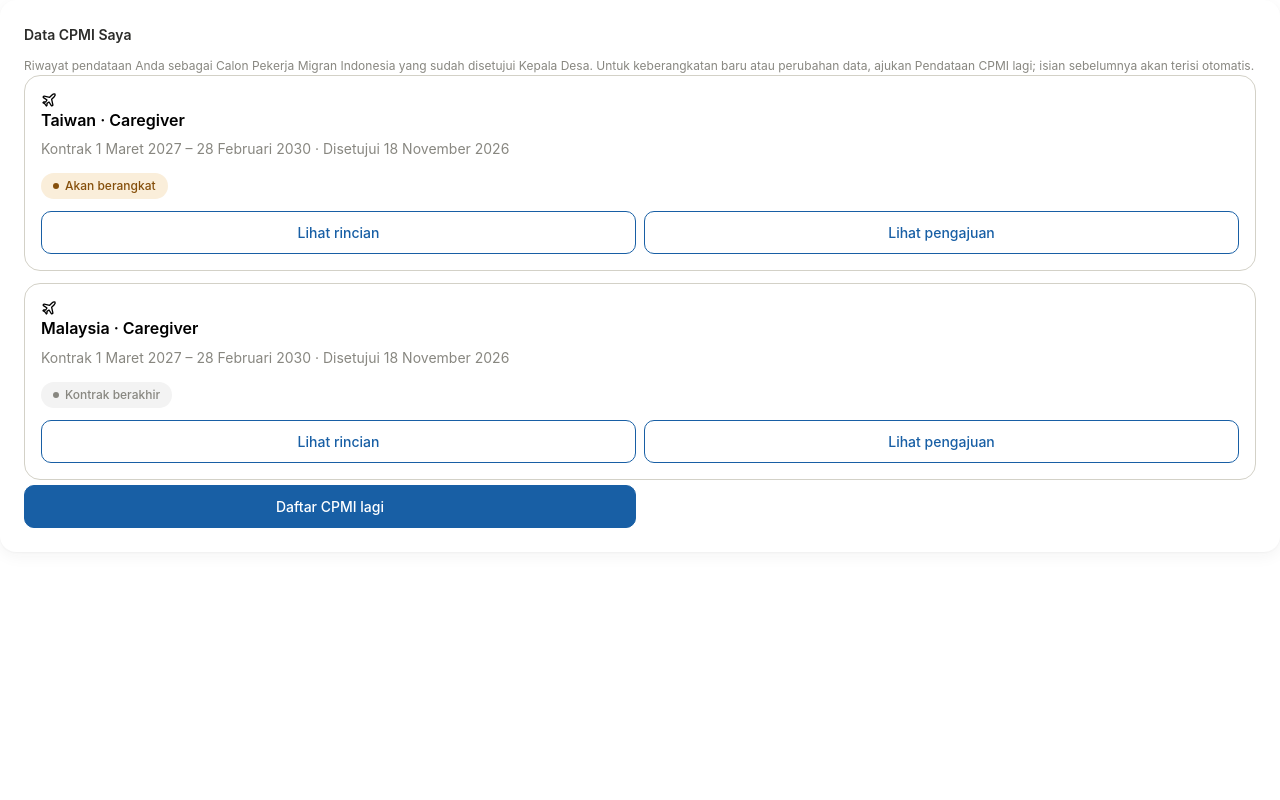
Scenario: CpmiSayaCard › lists each departure and opens its details on demand
The image size is (1280, 800).
Expected: the text "Taiwan · Caregiver" is shown, [41,92,185,130]
Expected: the text "Malaysia · Caregiver" is shown, [41,300,198,338]
Click the button "Lihat rincian" below "Taiwan" at (338,233), box [41,211,636,254]
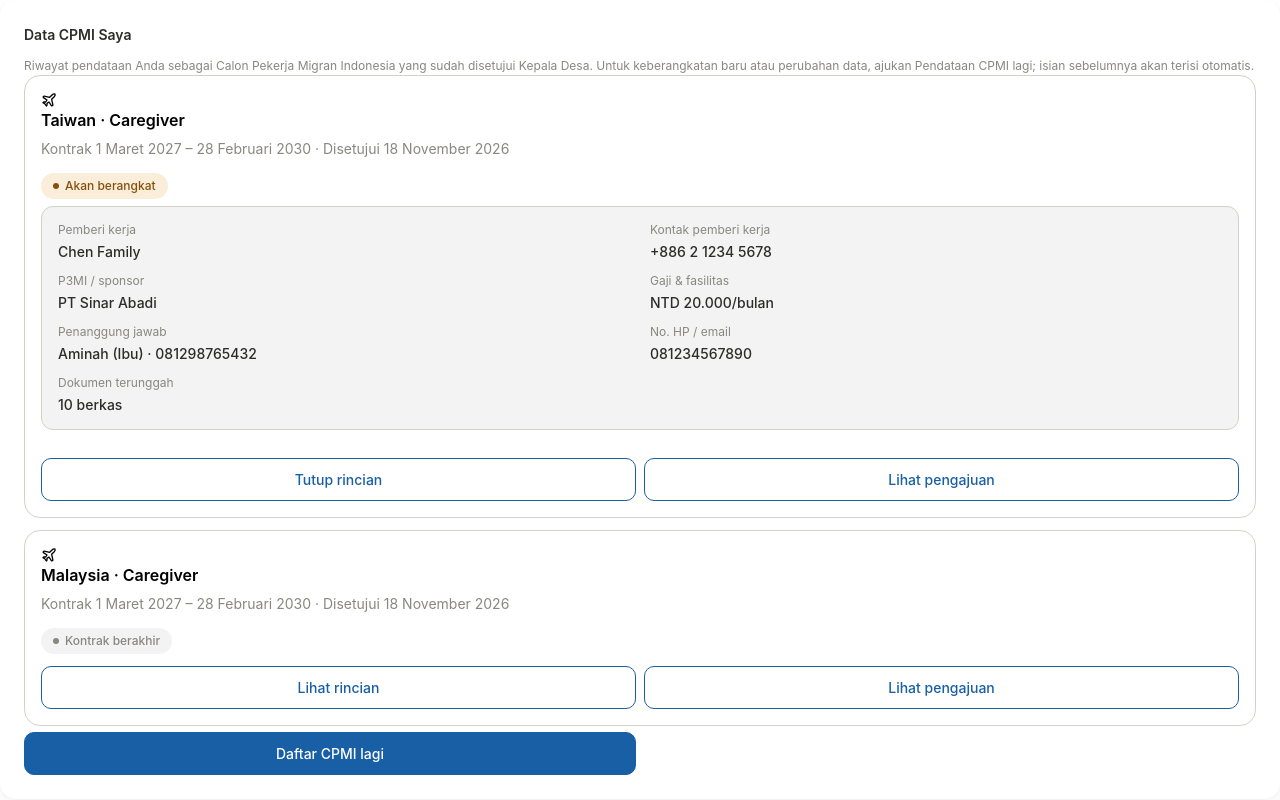
Expected: the text "Aminah (Ibu) · 081298765432" is shown, [58,345,257,362]
Expected: the text "10 berkas" is shown, [58,396,122,413]
